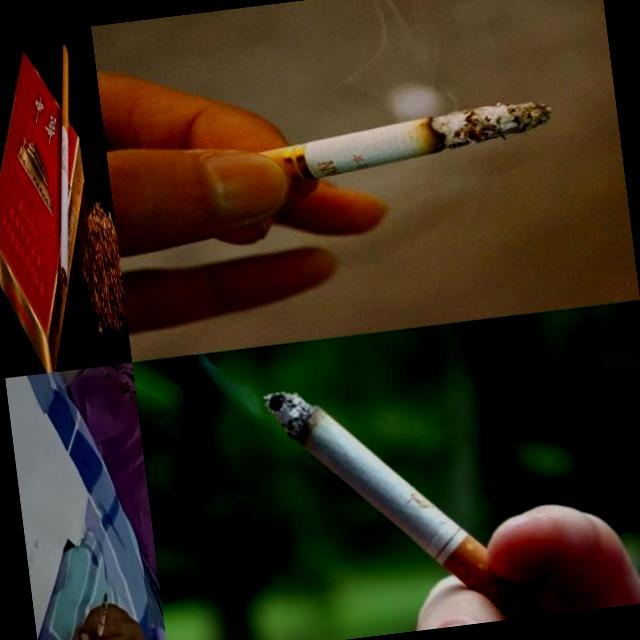cigarette: (93, 16, 574, 341), (262, 359, 564, 640), (32, 43, 96, 290), (83, 590, 117, 640)
